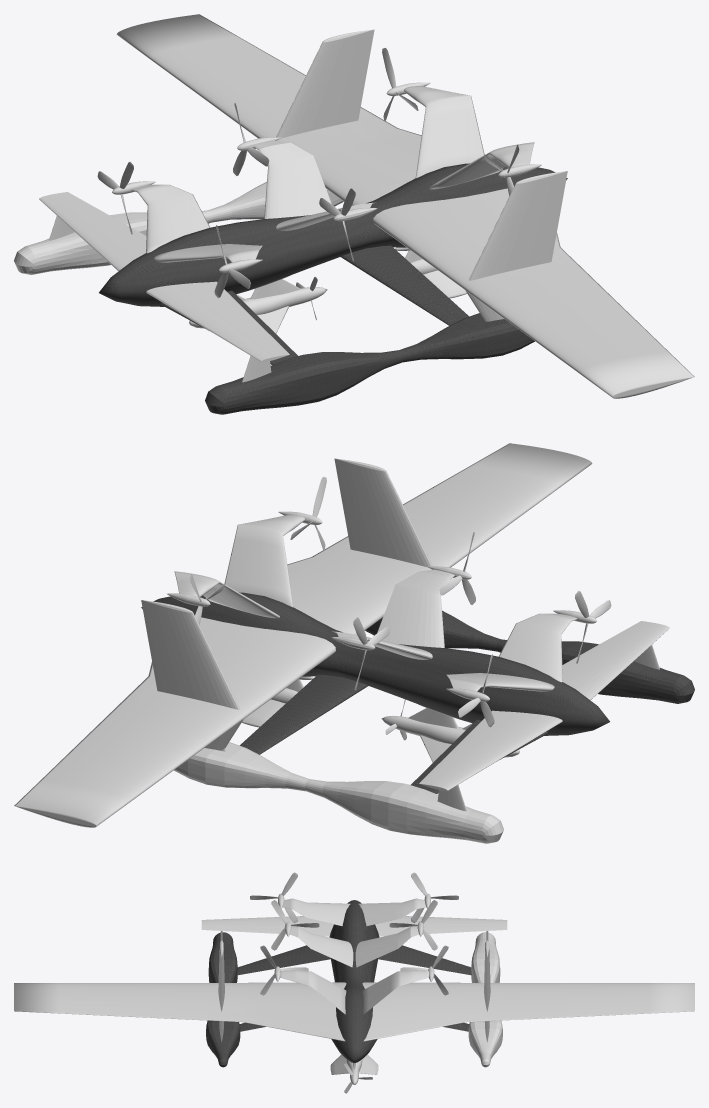
Rendered from Drone.glb.
3 renders of one model, top to bottom at view 1: azimuth 30°, elevation 25°; view 2: azimuth 150°, elevation 25°; view 3: azimuth 270°, elevation 25°, orthographic. The views are drawn at different scales.
Visible parts, largest first — view 1: MainWIngs, Fuselage, DRONE.001, Canard, DRONE.032, DRONE.031, 2vert, DRONE.002, 1vertL, 3vert.001, DRONE.006, CHILD.001 (+7 smaller); view 2: MainWIngs, Fuselage, DRONE.002, Canard, DRONE.031, DRONE.032, 2vert, DRONE.001, 1vertR, 3vert.001, DRONE.006, CHILD.001 (+7 smaller); view 3: MainWIngs, Fuselage, Canard, DRONE.005, 2vert, DRONE.001, DRONE.002, 3vert.001, 1vertL, 1vertR, CHILD, 2propL (+7 smaller).
Boxes of the visible parts, box(x1,y1,x2,y2) form: MainWIngs: box(116, 14, 694, 398); Fuselage: box(99, 163, 567, 306); DRONE.001: box(205, 313, 534, 414); Canard: box(39, 192, 289, 362); DRONE.032: box(465, 171, 567, 321); DRONE.031: box(276, 29, 374, 138); 2vert: box(254, 140, 376, 230); DRONE.002: box(14, 181, 343, 274); 1vertL: box(404, 86, 484, 178); 3vert.001: box(132, 184, 262, 262); DRONE.006: box(340, 245, 468, 325); CHILD.001: box(189, 275, 327, 333); MainWIngs: box(14, 443, 592, 827); Fuselage: box(141, 592, 609, 735); DRONE.002: box(174, 742, 503, 843); Canard: box(419, 621, 669, 791); DRONE.031: box(141, 600, 243, 750); DRONE.032: box(334, 458, 432, 567); 2vert: box(332, 569, 454, 659); DRONE.001: box(365, 610, 694, 703); 1vertR: box(224, 515, 304, 607); 3vert.001: box(446, 613, 576, 691); DRONE.006: box(240, 674, 368, 754); CHILD.001: box(381, 699, 519, 762); MainWIngs: box(14, 982, 694, 1041); Fuselage: box(329, 900, 379, 1062); Canard: box(201, 916, 507, 936); DRONE.005: box(237, 945, 471, 975); 2vert: box(290, 926, 418, 967); DRONE.001: box(206, 932, 240, 1067); DRONE.002: box(468, 932, 502, 1067); 3vert.001: box(283, 898, 425, 926); 1vertL: box(362, 970, 428, 1014); 1vertR: box(280, 970, 346, 1014); CHILD: box(330, 1054, 378, 1093); 2propL: box(389, 900, 437, 950).
Size of the model in its own units: 6 by 2.27 by 10.97.
Materials: 2 (1 with a texture image).
